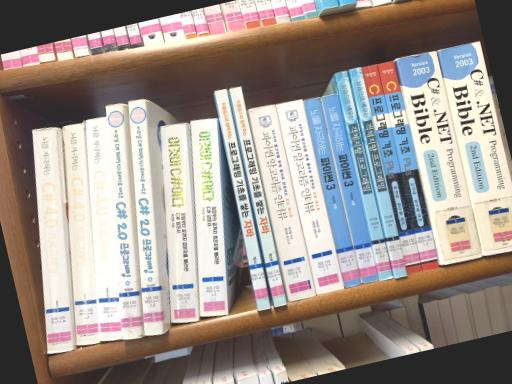book-spine: (397, 51, 483, 265), (439, 41, 512, 256), (276, 98, 345, 294), (249, 104, 316, 300), (361, 64, 422, 274), (377, 60, 438, 270), (229, 86, 286, 307), (349, 67, 408, 278), (215, 89, 271, 311), (335, 71, 392, 280), (303, 97, 361, 286), (321, 94, 378, 282), (31, 127, 72, 353), (62, 123, 100, 346), (106, 103, 142, 338), (129, 98, 164, 334), (85, 117, 121, 340), (160, 121, 199, 322), (190, 117, 227, 315)
